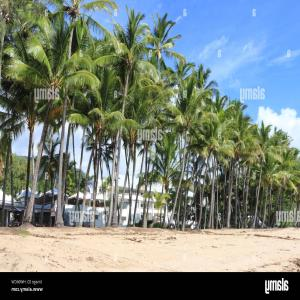palm tree: (5, 18, 102, 226), (93, 4, 161, 226), (160, 75, 214, 230)
